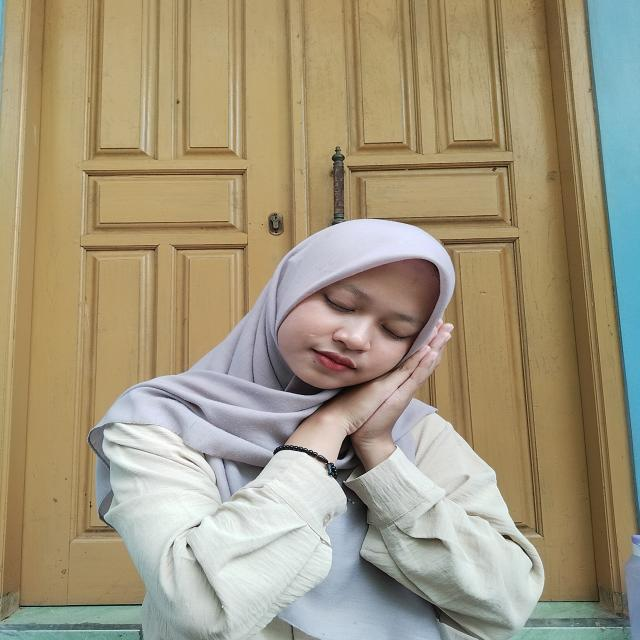tidur: (284, 311, 447, 472)
